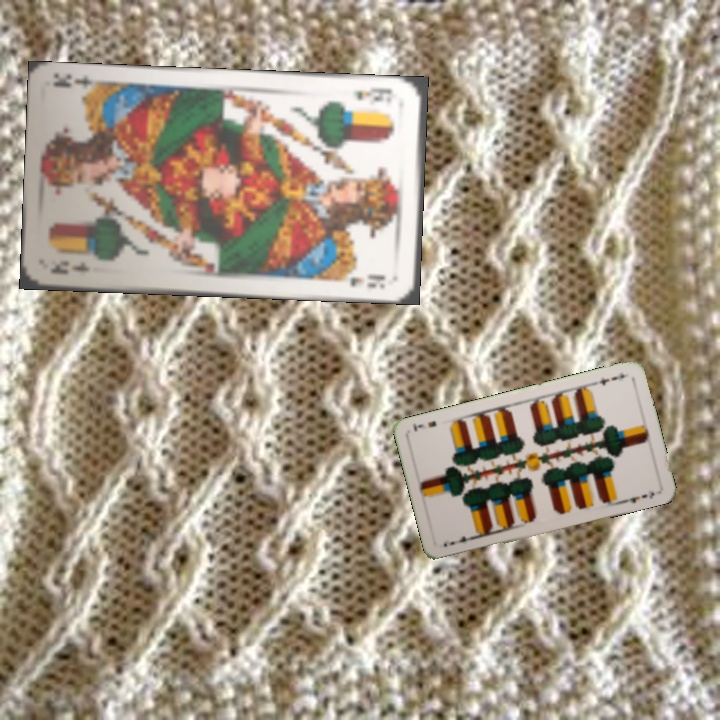E7: (595, 368, 627, 388), (445, 531, 478, 548)
EK: (349, 83, 394, 104), (47, 257, 93, 277)
